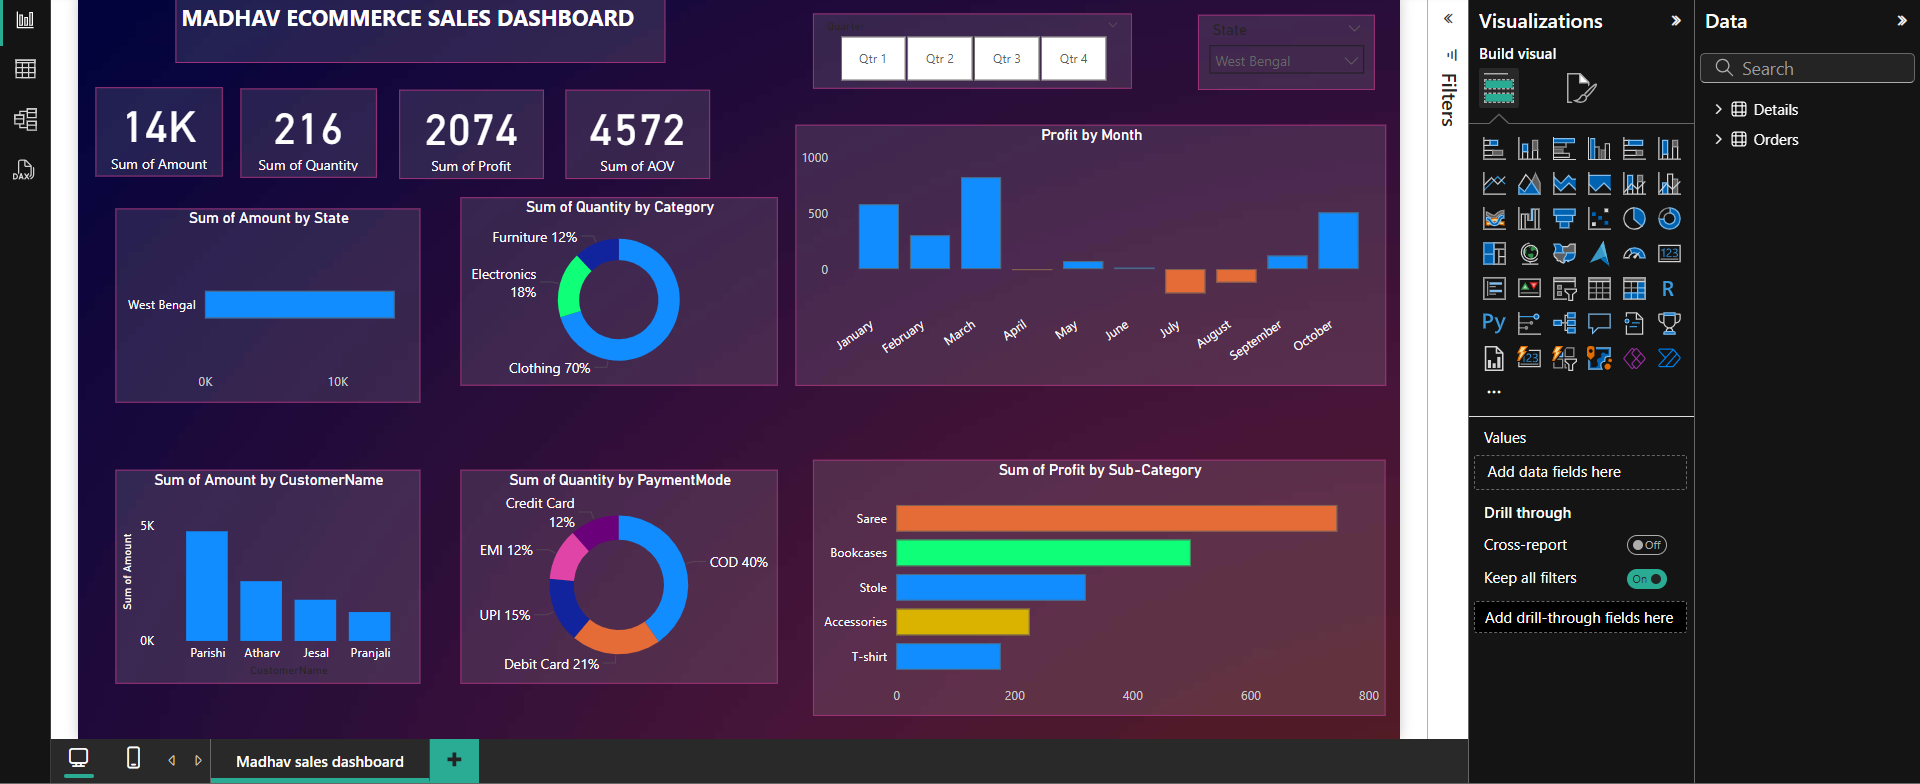

The page's visual inventory and layout, read from the dashboard file:
{"tool":"powerbi","page":{"name":"Madhav sales dashboard","canvas":[1280,720],"ordinal":0},"visuals":[{"type":"textbox","box":[94.7,0,474.8,64.5],"z":0},{"type":"columnChart","title":"Profit by Month","fields":{"Y":["Sum(Details.Profit)"],"Category":["Orders.Order Date.Variation.Date Hierarchy.Month"]},"box":[694.3,124.9,572.2,252.5],"z":1000},{"type":"barChart","fields":{"Category":["Details.Sub-Category"],"Y":["Sum(Details.Profit)"]},"box":[711.8,449.1,554.4,248.2],"z":2000},{"type":"donutChart","fields":{"Category":["Details.Category"],"Y":["Sum(Details.Quantity)"]},"box":[370.5,194.9,307.4,182.5],"z":3000},{"type":"donutChart","fields":{"Y":["Sum(Details.Quantity)"],"Category":["Details.PaymentMode"]},"box":[370.4,458.8,307.5,207],"z":4000},{"type":"card","fields":{"Values":["Sum(Details.Amount)"]},"box":[16.5,87.8,123.5,86.4],"z":5000},{"type":"card","fields":{"Values":["Sum(Details.Quantity)"]},"box":[157.8,89.2,131.7,86.4],"z":6000},{"type":"card","fields":{"Values":["Sum(Details.Profit)"]},"box":[311.5,90.6,140,86.4],"z":7000},{"type":"card","fields":{"Values":["Sum(Details.AOV)"]},"box":[472,90.6,140,86.4],"z":8000},{"type":"barChart","fields":{"Category":["Orders.State"],"Y":["Sum(Details.Amount)"]},"box":[36.3,205.8,295.4,187.6],"z":9000},{"type":"columnChart","fields":{"Category":["Orders.CustomerName"],"Y":["Sum(Details.Amount)"]},"box":[36.3,458.8,295.4,207],"z":10000},{"type":"slicer","fields":{"Values":["Orders.Order Date.Variation.Date Hierarchy.Quarter"]},"box":[712.2,16.5,308.7,72.7],"z":11000},{"type":"slicer","fields":{"Values":["Orders.State"]},"box":[1084.1,17.8,171.5,72.7],"z":12000}]}

Visuals, with their boxes on the page's 1280x720 design canvas (x1, y1, x2, y2). These are canvas units, not pixel positions in the 1920x784 screenshot, which may show the page scaled, cropped or inside an application window:
textbox: (95, 0, 570, 64)
"Profit by Month" columnChart: (694, 125, 1266, 377)
barChart - Details.Sub-Category x Sum(Details.Profit): (712, 449, 1266, 697)
donutChart - Details.Category x Sum(Details.Quantity): (370, 195, 678, 377)
donutChart - Sum(Details.Quantity) x Details.PaymentMode: (370, 459, 678, 666)
card - Sum(Details.Amount): (16, 88, 140, 174)
card - Sum(Details.Quantity): (158, 89, 290, 176)
card - Sum(Details.Profit): (312, 91, 452, 177)
card - Sum(Details.AOV): (472, 91, 612, 177)
barChart - Orders.State x Sum(Details.Amount): (36, 206, 332, 393)
columnChart - Orders.CustomerName x Sum(Details.Amount): (36, 459, 332, 666)
slicer - Orders.Order Date.Variation.Date Hierarchy.Quarter: (712, 16, 1021, 89)
slicer - Orders.State: (1084, 18, 1256, 90)
